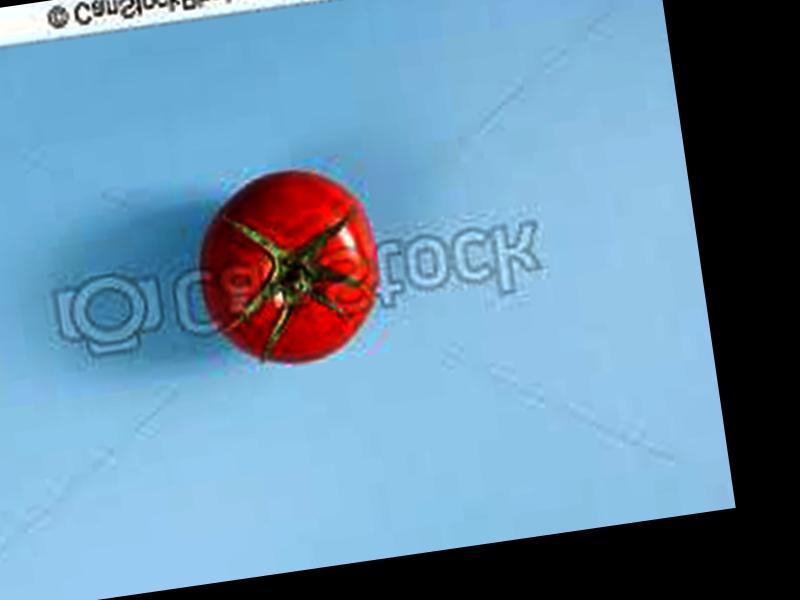Tomato: (190, 157, 388, 373)
